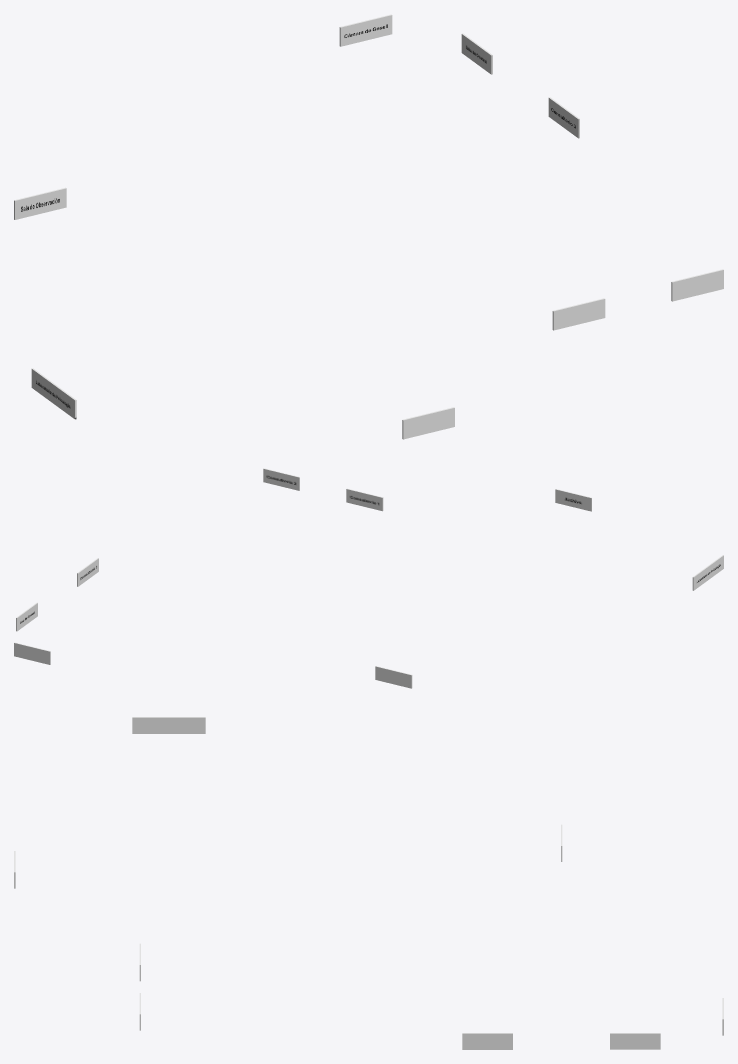
The model's file is etiquetas.fbx.
3 renders of one model, top to bottom at view 1: azimuth 30°, elevation 25°; view 2: azimuth 150°, elevation 25°; view 3: azimuth 270°, elevation 25°, orthographic. The views are drawn at different scales.
Visible parts, largest first — view 1: Cube.011, Cube.022, Cube.012, Cube.009, Cube.023, Cube, Cube.021, Cube.020; view 2: Cube.011, Cube.023, Cube.009, Cube.012, Cube.022, Cube; view 3: Cube, Cube.021, Cube.020.
Boxes of the visible parts, x1,y1,x2,y2 form: Cube.011: (552, 298, 605, 330); Cube.022: (339, 14, 392, 46); Cube.012: (671, 269, 723, 301); Cube.009: (402, 407, 454, 439); Cube.023: (14, 187, 66, 219); Cube: (31, 368, 76, 419); Cube.021: (461, 33, 492, 74); Cube.020: (548, 97, 579, 138); Cube.011: (346, 488, 383, 511); Cube.023: (375, 666, 412, 688); Cube.009: (555, 489, 591, 511); Cube.012: (263, 468, 299, 490); Cube.022: (14, 642, 50, 664); Cube: (692, 555, 723, 590); Cube: (132, 717, 205, 733); Cube.021: (610, 1033, 660, 1049); Cube.020: (462, 1033, 512, 1049).
Bounding box in the file's own units: 630 × 44.61 × 653.
8 materials, 8 textured.
